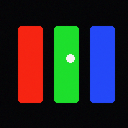0 point: (66, 54, 74, 62)
